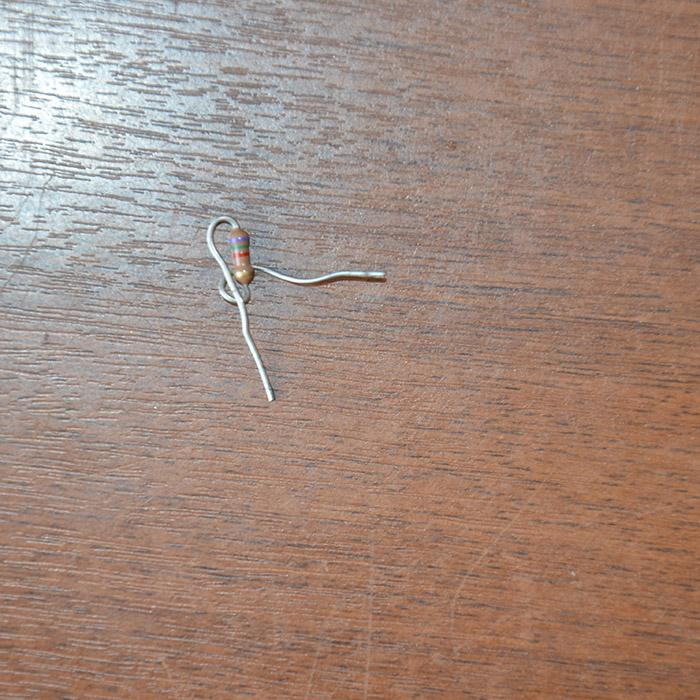resistor: (228, 227, 254, 285)
